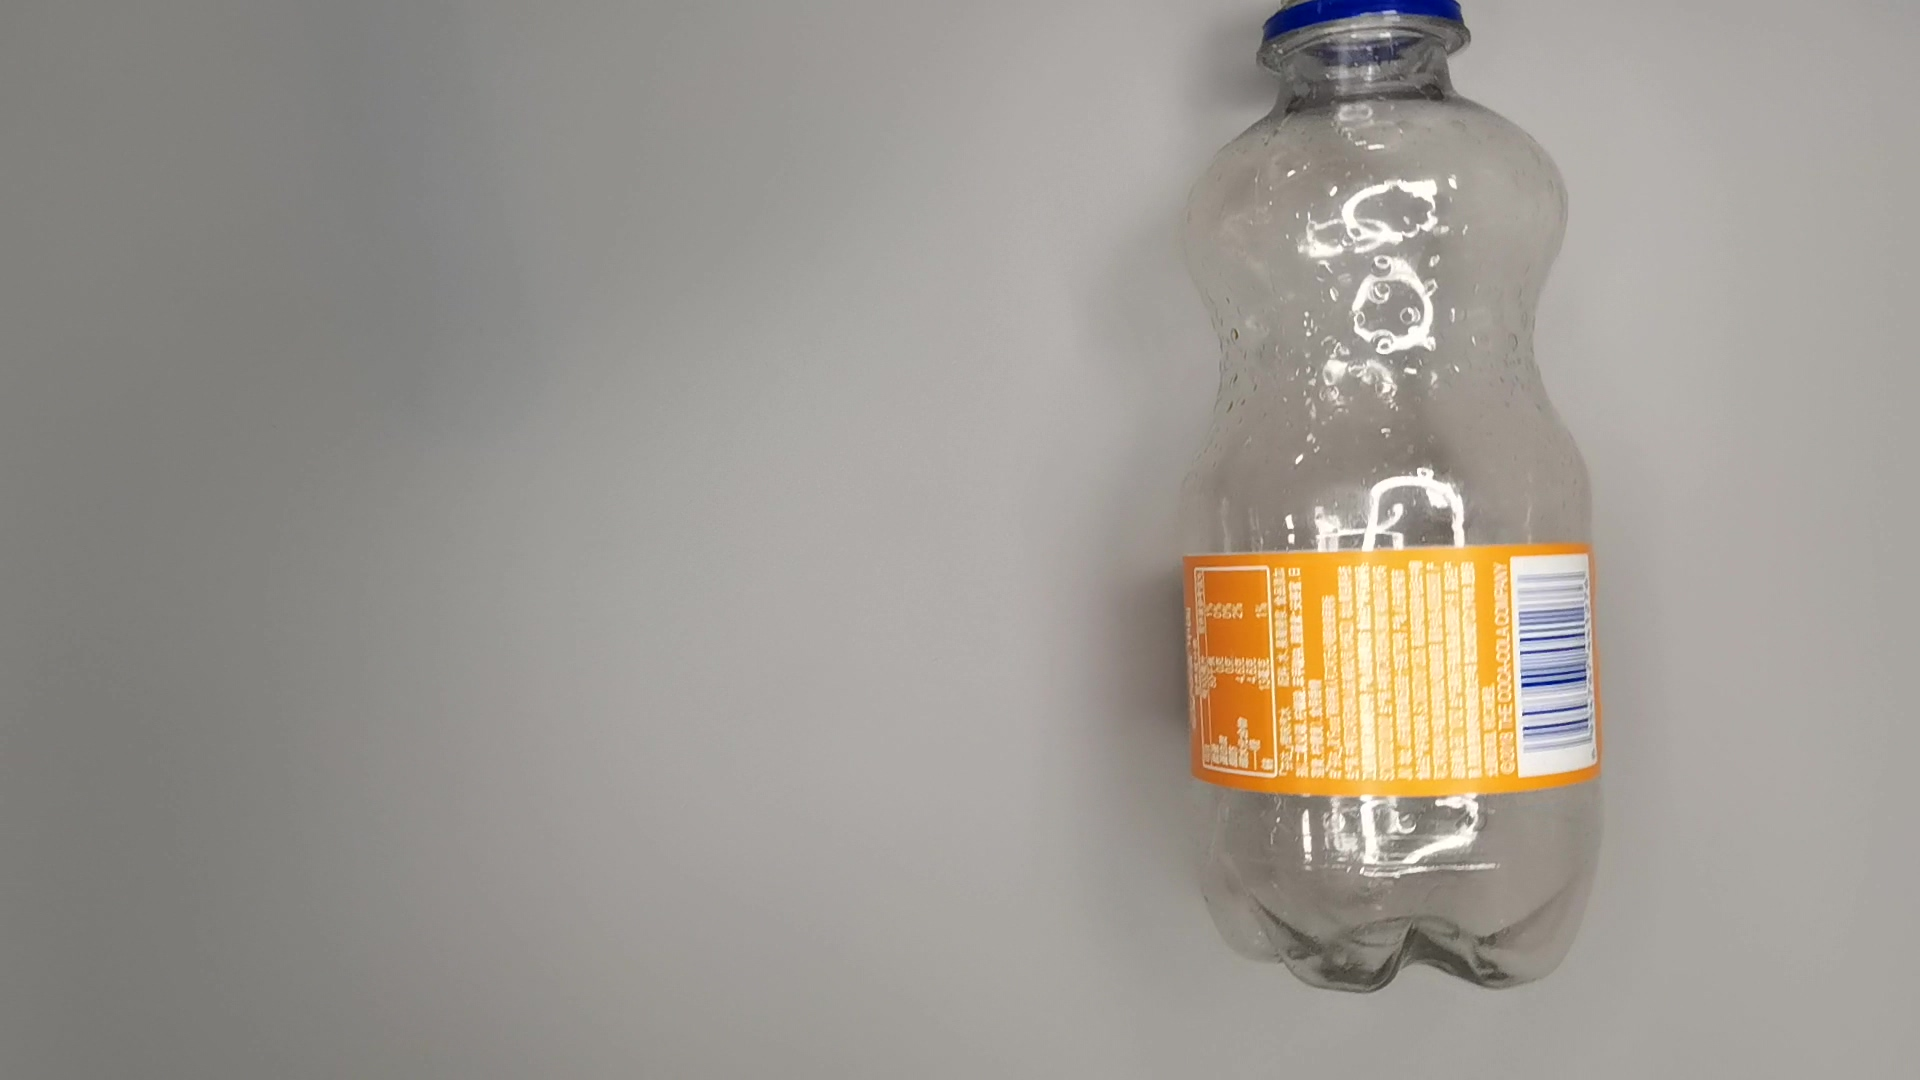bottle: (1166, 1, 1605, 994)
